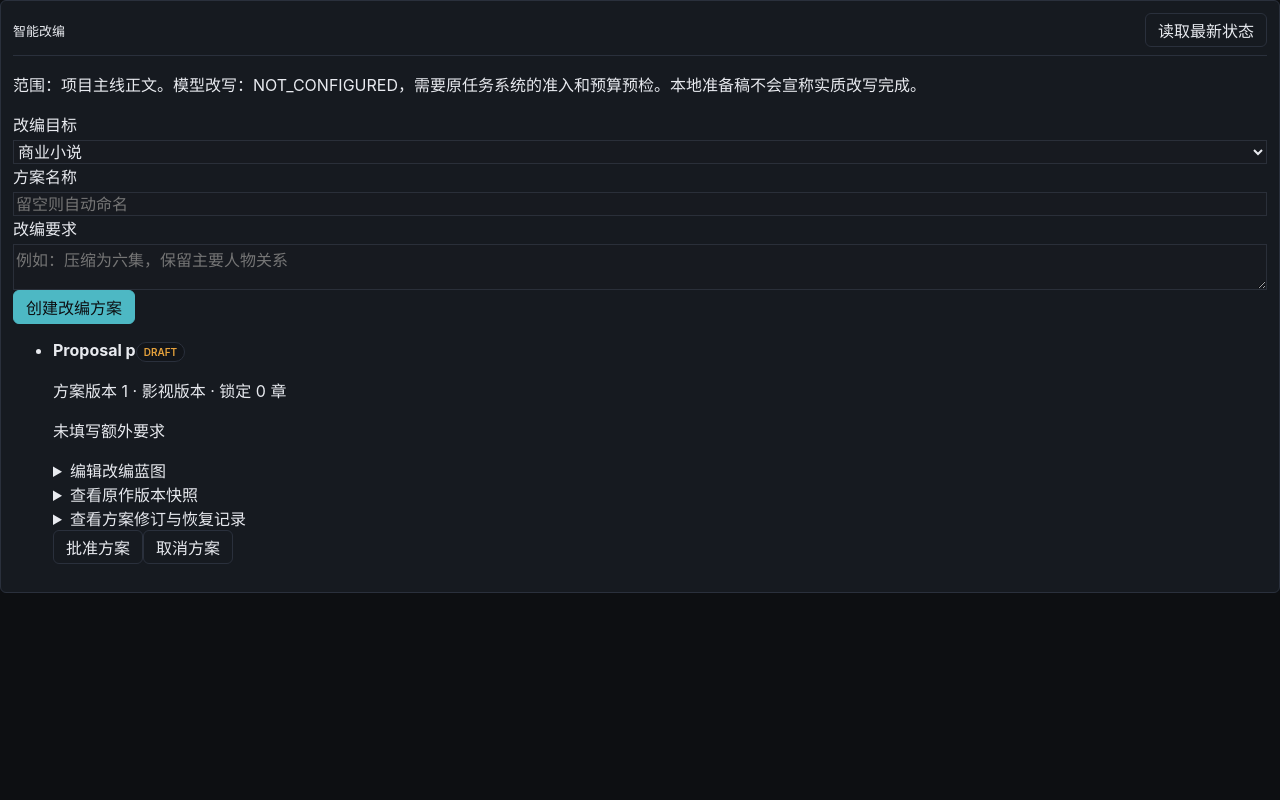
Test case: hides cached proposals after unauthorized reads
Expected: the text "Proposal p" is shown, [53, 340, 136, 360]
Click the button "读取最新状态".
click(1206, 30)  # box [1145, 13, 1267, 47]
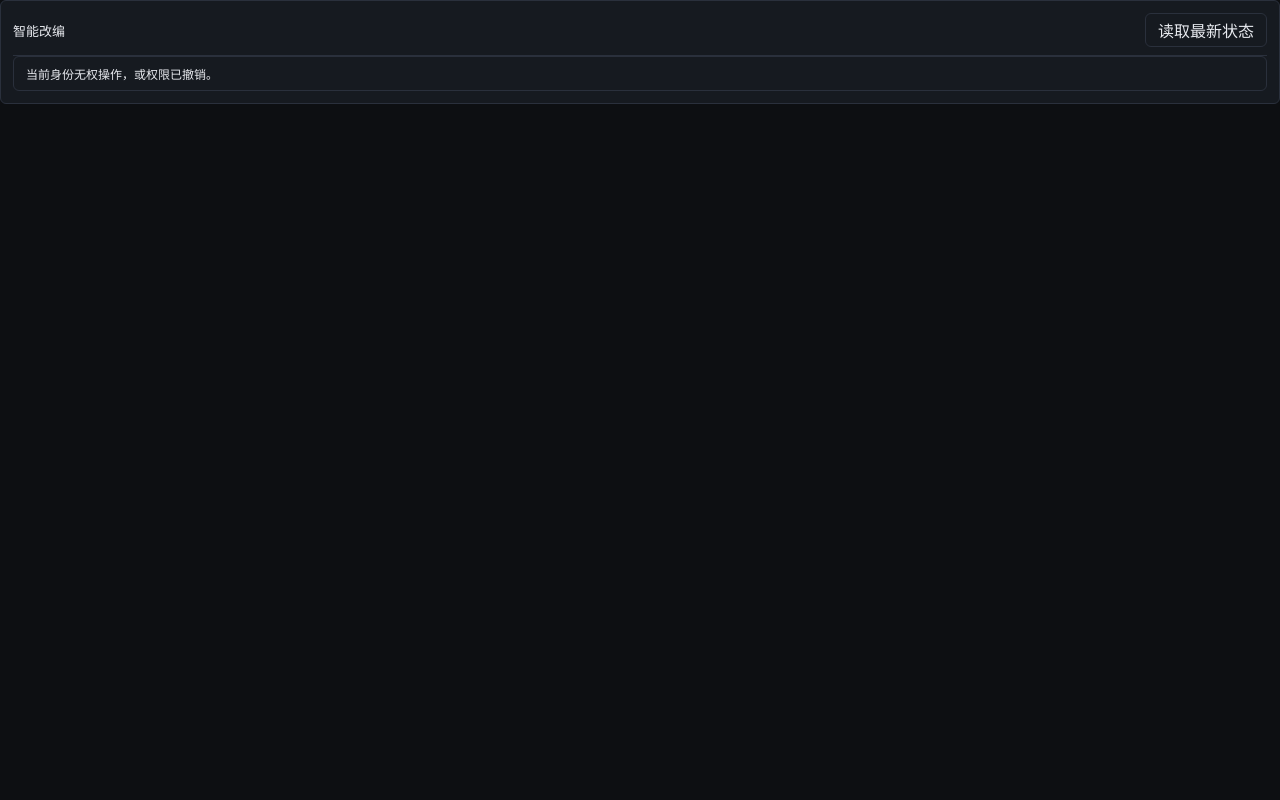
Result: the message "当前身份无权操作，或权限已撤销。" is shown at [13, 56, 1267, 91]
Result: the text "Proposal p" is gone
